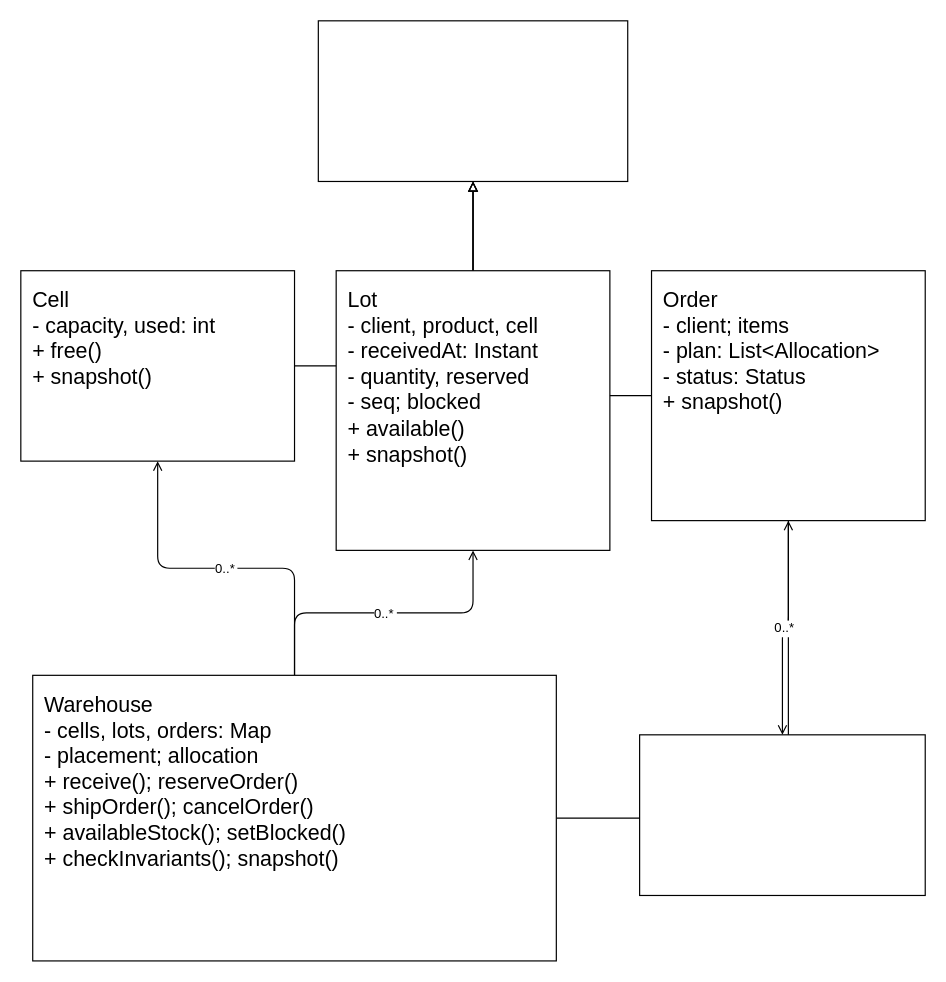
Some shapes in this 946 by 982 pixel diagram are drawn without their labels. Each missing label, with the centre of its shape:
Allocation {record} + lot(): String + quantity(): int + values(): the point at 781,814
Entity {abstract} - id: String + id() + snapshot() {abstract}: the point at 472,100
